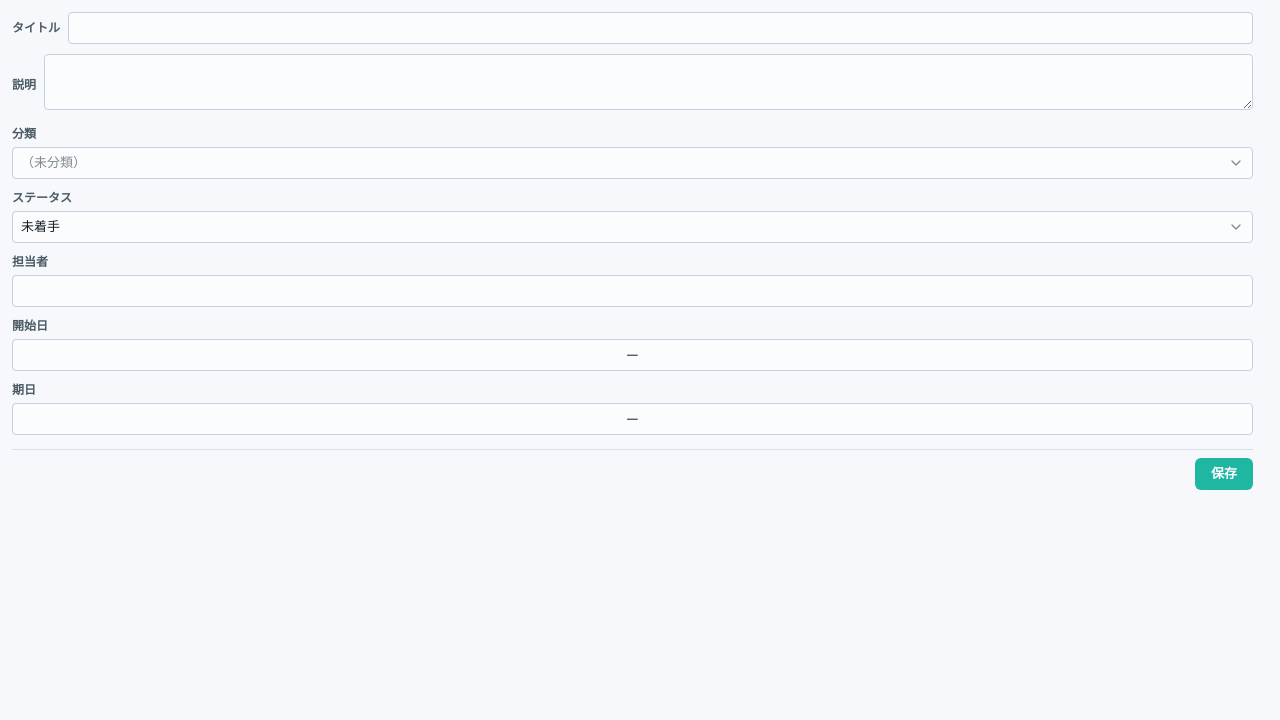
Test case: Desk の開始日・期日（1コンポーネント入力 / v2-170） › 開始日から開いても期日から開いても同じ期日範囲 popover が出ること
Click the button named "開始日".
click(632, 355)  # box [12,339,1253,371]
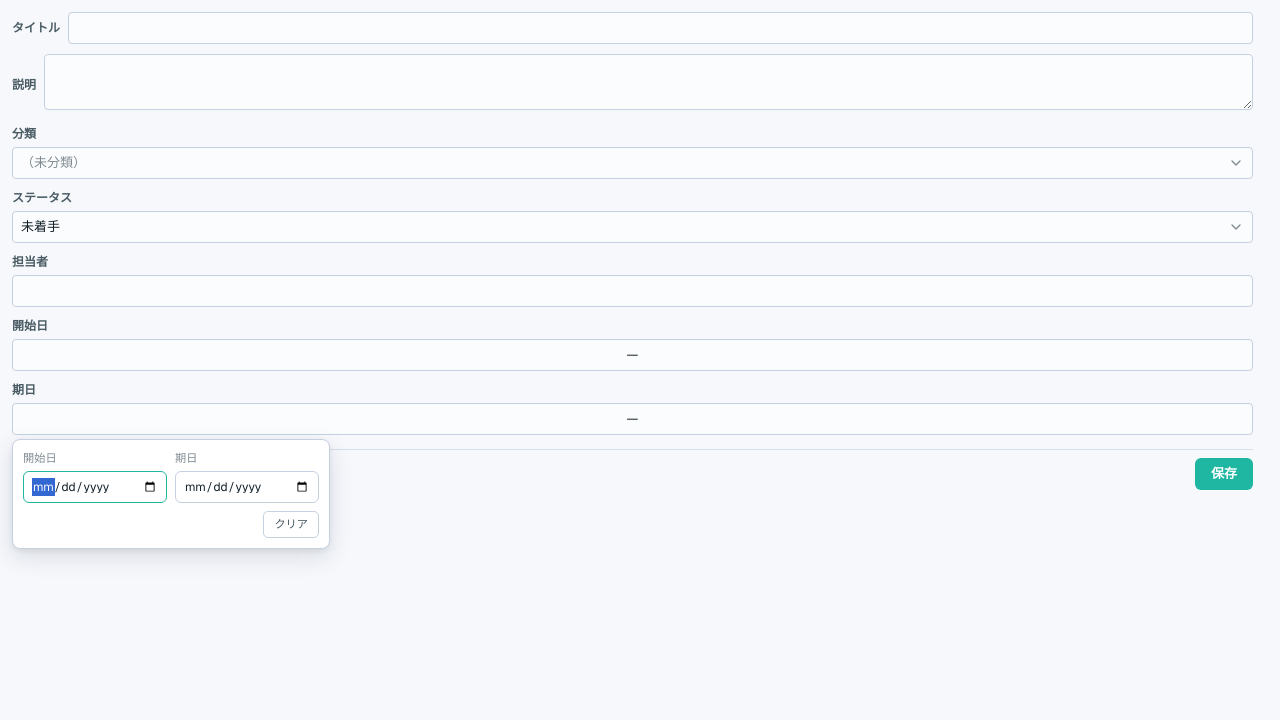
Expected: the dialog named "開始日・期日の範囲" is shown, [12,439,330,549]
Click the button named "開始日".
click(632, 355)  # box [12,339,1253,371]
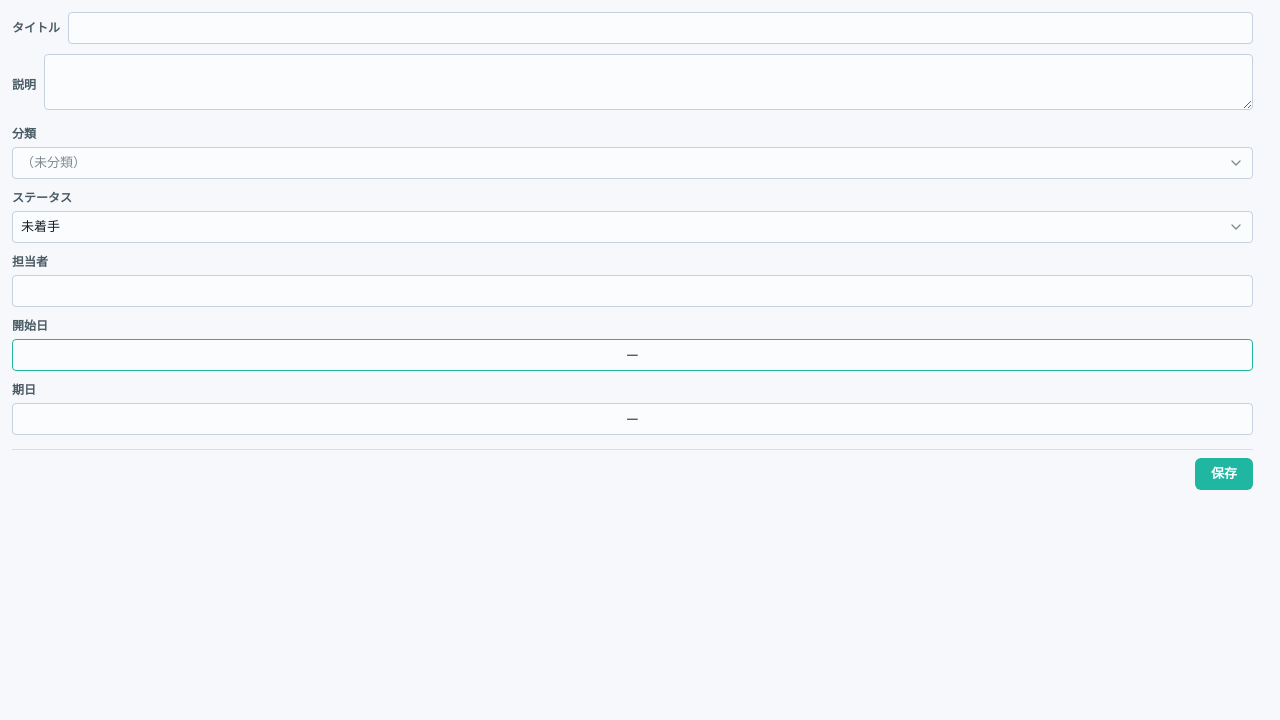
Expected: the dialog "開始日・期日の範囲" is gone
Click the button named "期日".
click(632, 419)  # box [12,403,1253,435]
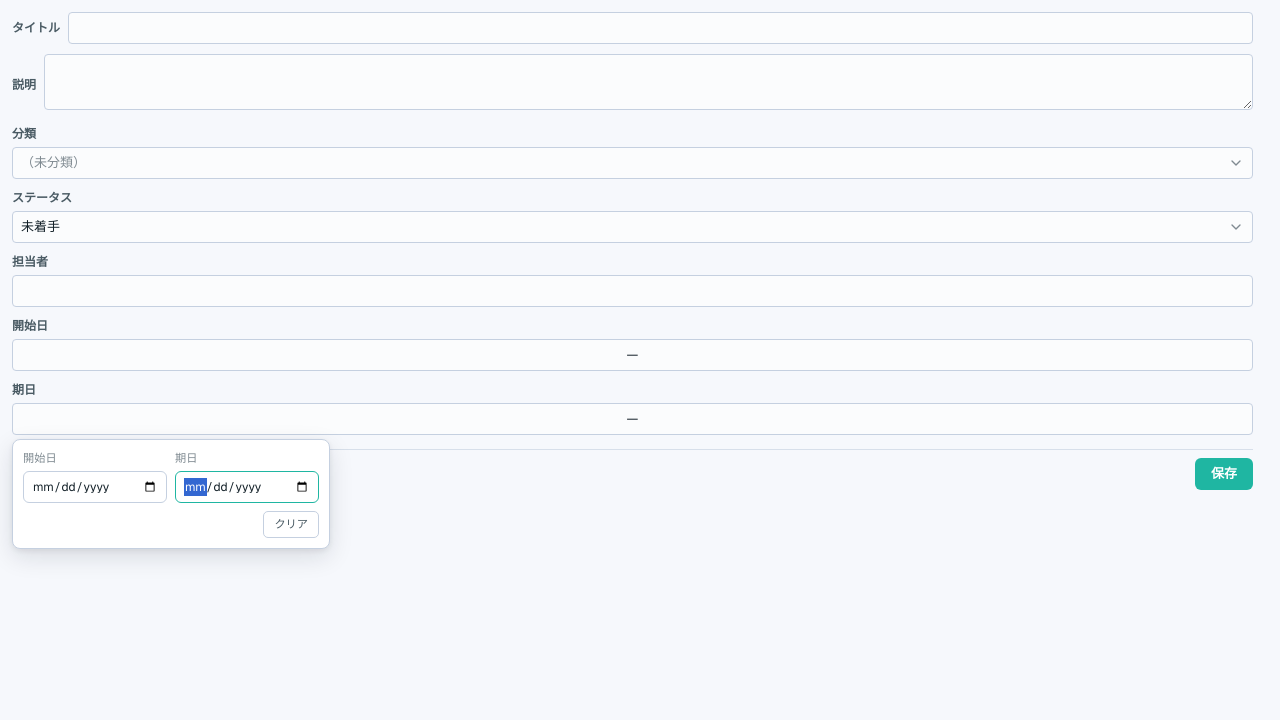
Expected: the dialog named "開始日・期日の範囲" is shown, [12,439,330,549]
